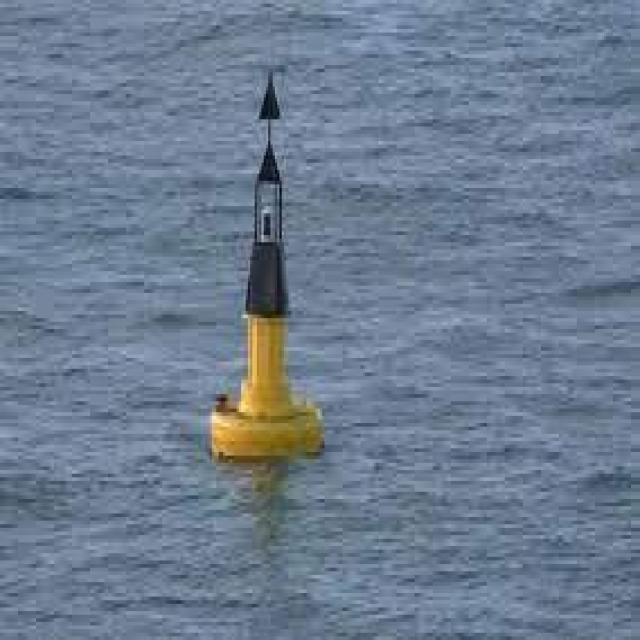marque: (209, 74, 326, 459)
